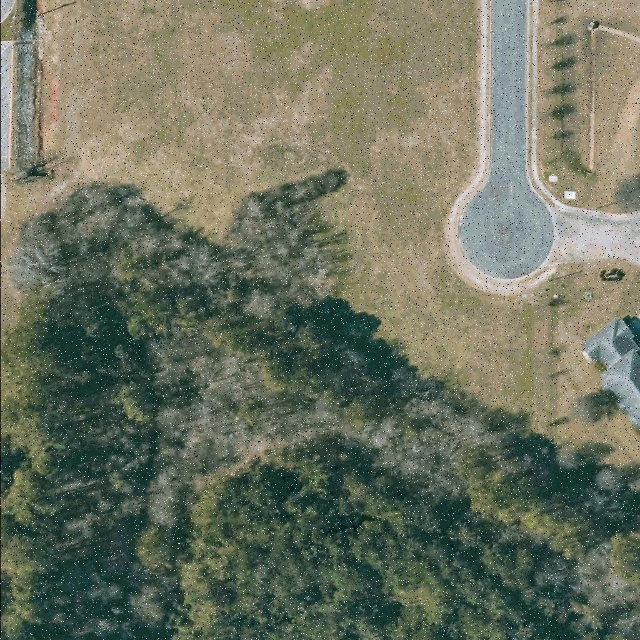vegetation: (0, 171, 640, 639)
